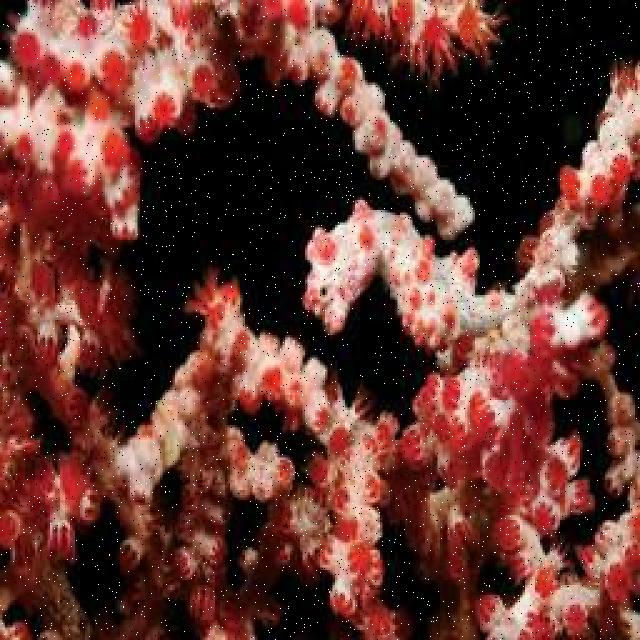reefs: (2, 0, 638, 638)
